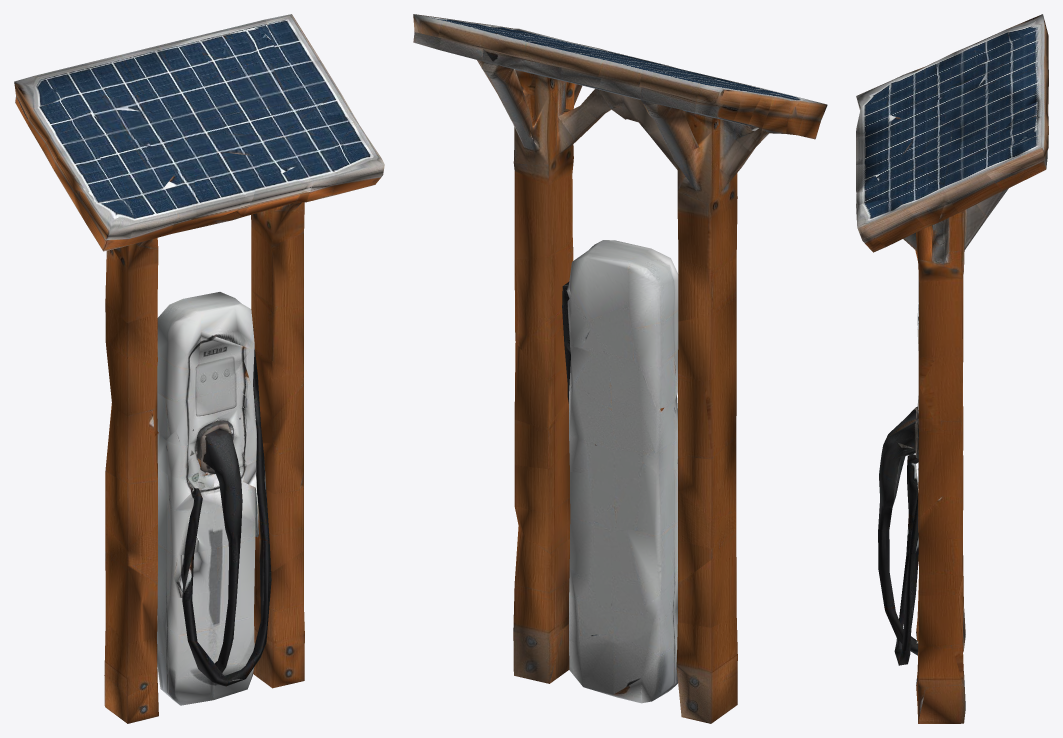
File: evpoint_lod1.glb
The picture shows the model from 3 angles, left to right: view 1: azimuth 30°, elevation 25°; view 2: azimuth 150°, elevation 25°; view 3: azimuth 270°, elevation 25°; orthographic projection. The views are drawn at different scales.
Visible parts, largest first — view 1: mesh_node; view 2: mesh_node; view 3: mesh_node.
Boxes of the visible parts, left/top/right/bottom form: mesh_node: left=14, top=14, right=384, bottom=723; mesh_node: left=413, top=14, right=827, bottom=723; mesh_node: left=856, top=14, right=1048, bottom=723.
Size of the model in its own units: 0.9079 by 1.9 by 0.5525.
1 material, 1 textured.
